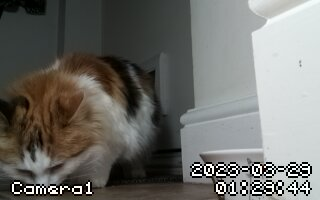clara: (5, 53, 156, 195)
